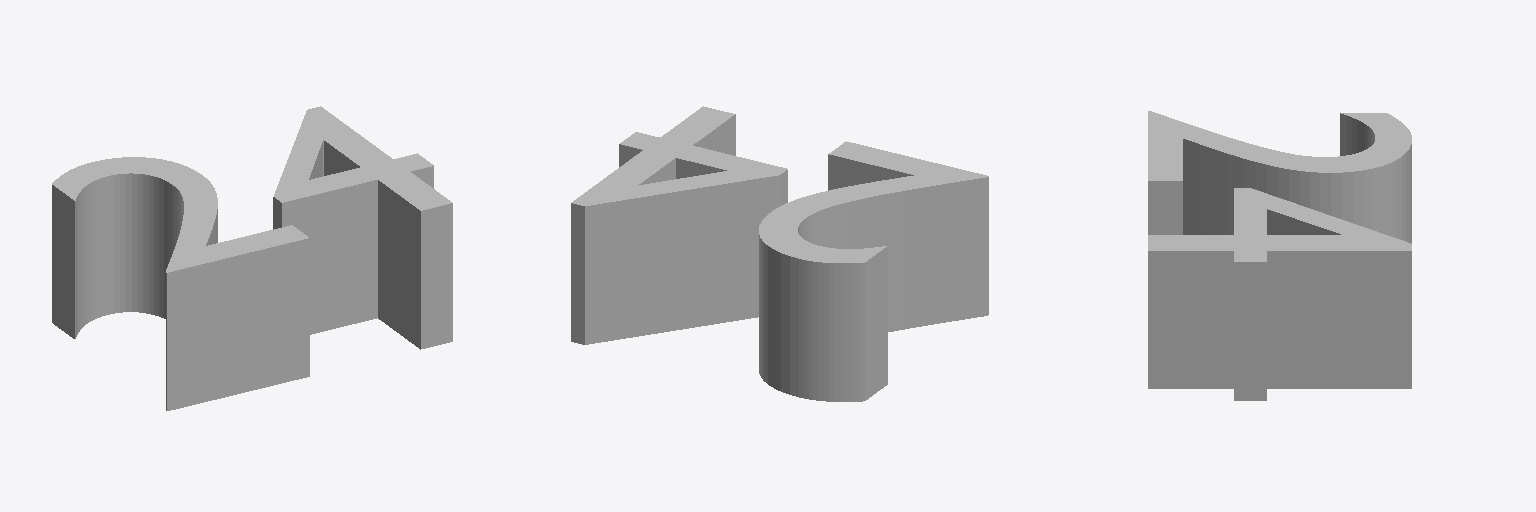
File: date_24.obj
3 renders of one model, left to right at view 1: azimuth 30°, elevation 25°; view 2: azimuth 150°, elevation 25°; view 3: azimuth 270°, elevation 25°, orthographic.
Parts seen in each view (by area): view 1: Text; view 2: Text; view 3: Text.
Boxes of the visible parts, x1=… form: Text: x1=52, y1=106, x2=452, y2=410; Text: x1=571, y1=106, x2=988, y2=401; Text: x1=1148, y1=111, x2=1411, y2=400.
Bounding box in the file's own units: 0.937 × 0.4 × 0.691.